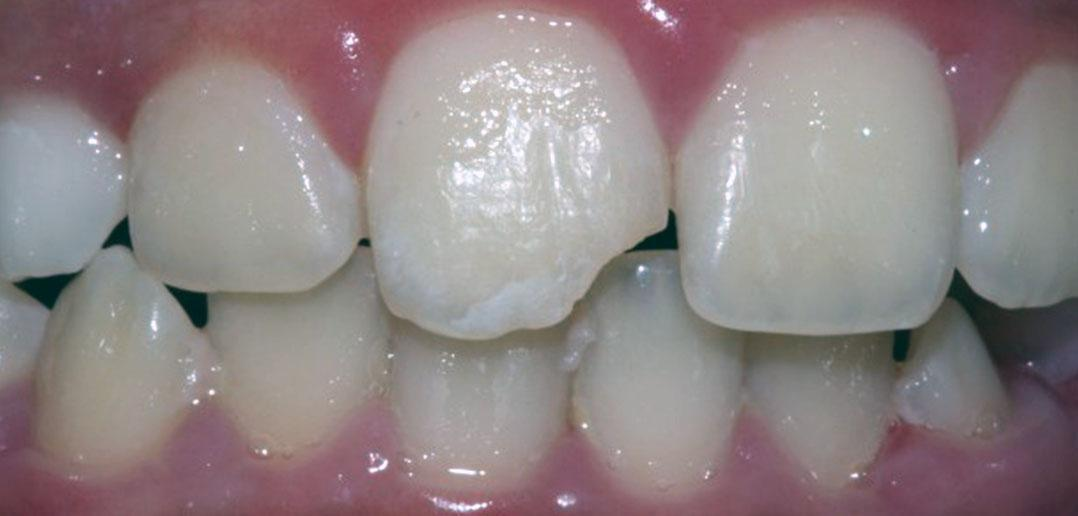Fractured Teeth: (368, 12, 670, 341)
